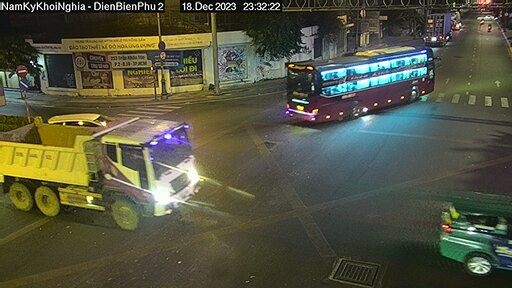car: (275, 47, 446, 128), (422, 180, 512, 281)
truck: (4, 99, 219, 237), (421, 9, 457, 44)
